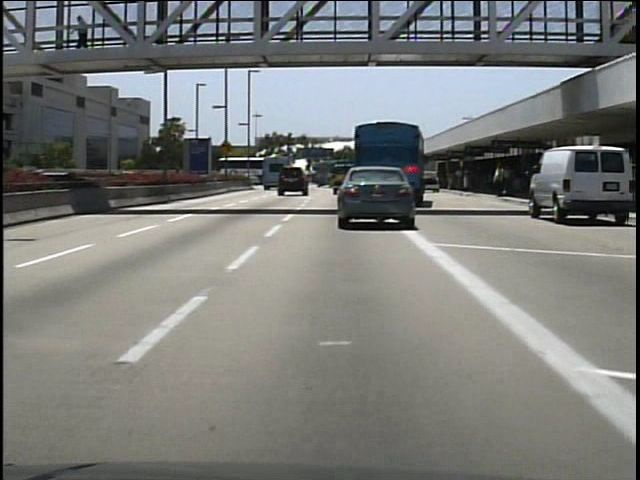person: (73, 15, 95, 61), (494, 162, 510, 199)
